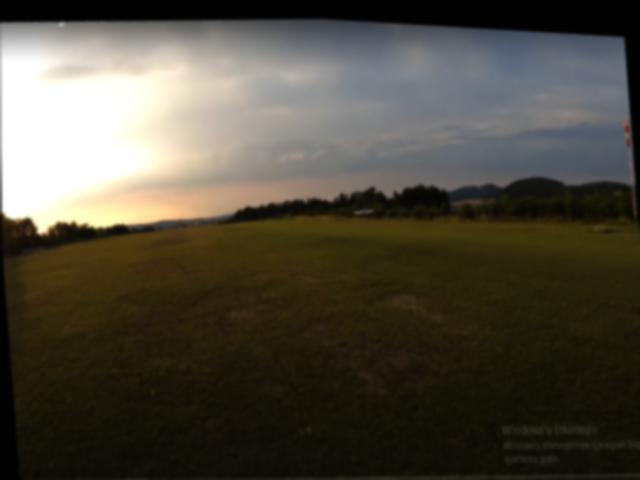plane: (351, 201, 374, 215)
